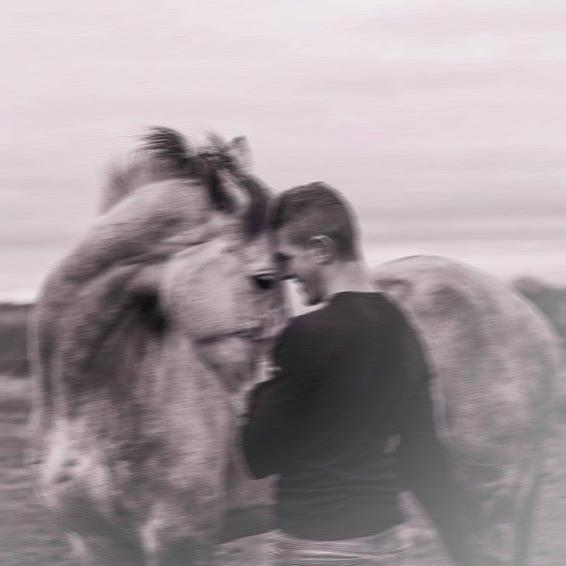horse: (22, 124, 566, 565)
